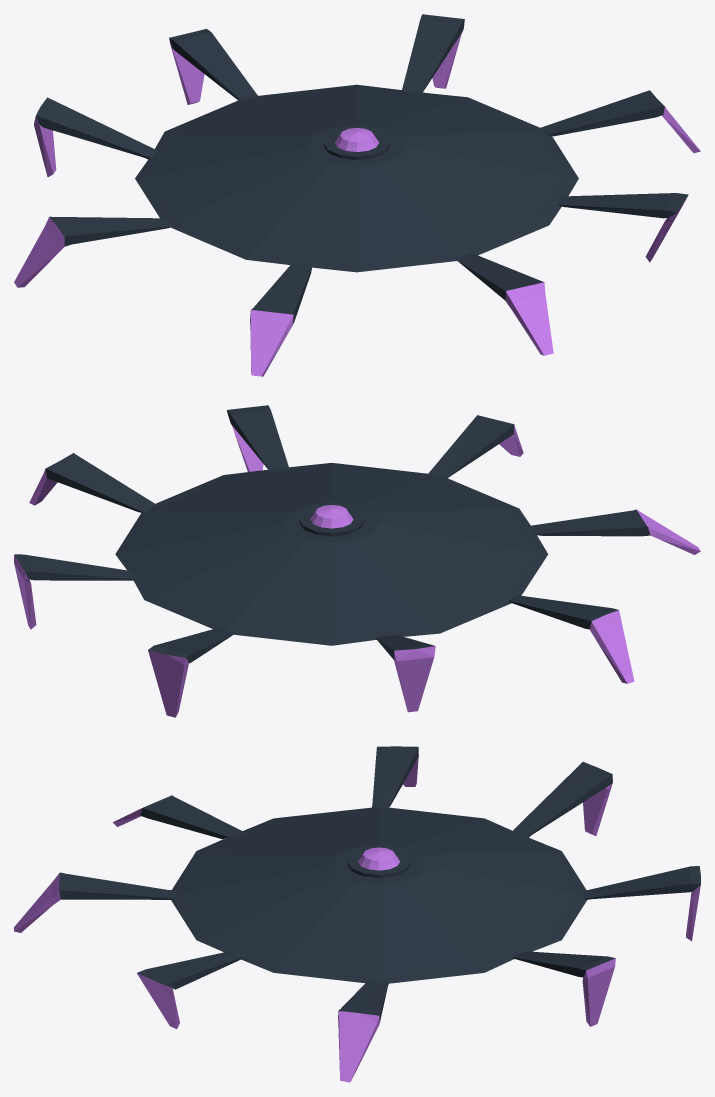
Rendered from Spider_Walk_000004.obj.
3 views of the same model, one above another, from view 1: azimuth 30°, elevation 25°; view 2: azimuth 150°, elevation 25°; view 3: azimuth 270°, elevation 25° (orthographic). The views are drawn at different scales.
Parts seen in each view (by area): view 1: Circle_Circle.001; view 2: Circle_Circle.001; view 3: Circle_Circle.001.
Part boxes in pixels (left/top/right/bottom): Circle_Circle.001: left=14, top=14, right=700, bottom=376; Circle_Circle.001: left=14, top=405, right=700, bottom=717; Circle_Circle.001: left=14, top=746, right=700, bottom=1082.
Bounding box in the file's own units: 3.38 × 0.471 × 3.26.
